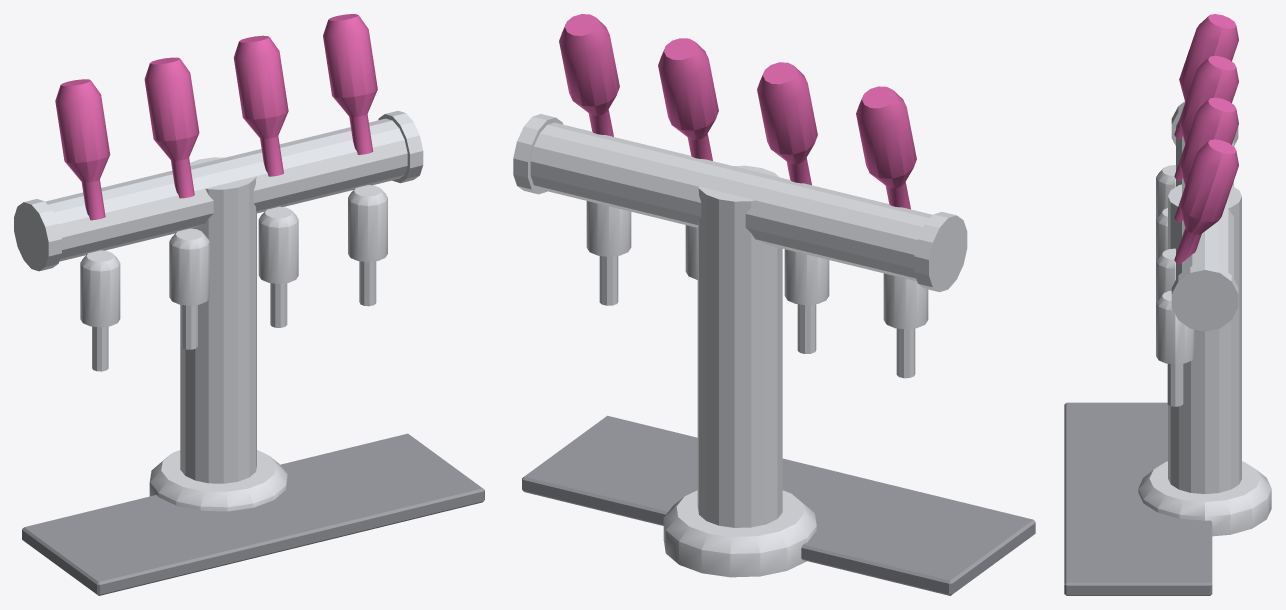
File: nightclub-and-dj-booth-beer-tap-font-7c18dba3.glb
The picture shows the model from 3 angles, left to right: view 1: azimuth 30°, elevation 25°; view 2: azimuth 150°, elevation 25°; view 3: azimuth 270°, elevation 25°; orthographic projection. The views are drawn at different scales.
Visible parts, largest first — view 1: beer-tap-font; view 2: beer-tap-font; view 3: beer-tap-font.
Boxes of the visible parts, x1=… form: beer-tap-font: x1=14, y1=14, x2=484, y2=595; beer-tap-font: x1=513, y1=14, x2=1035, y2=595; beer-tap-font: x1=1064, y1=14, x2=1271, y2=595.
Size of the model in its own units: 0.58 by 0.6379 by 0.28.
